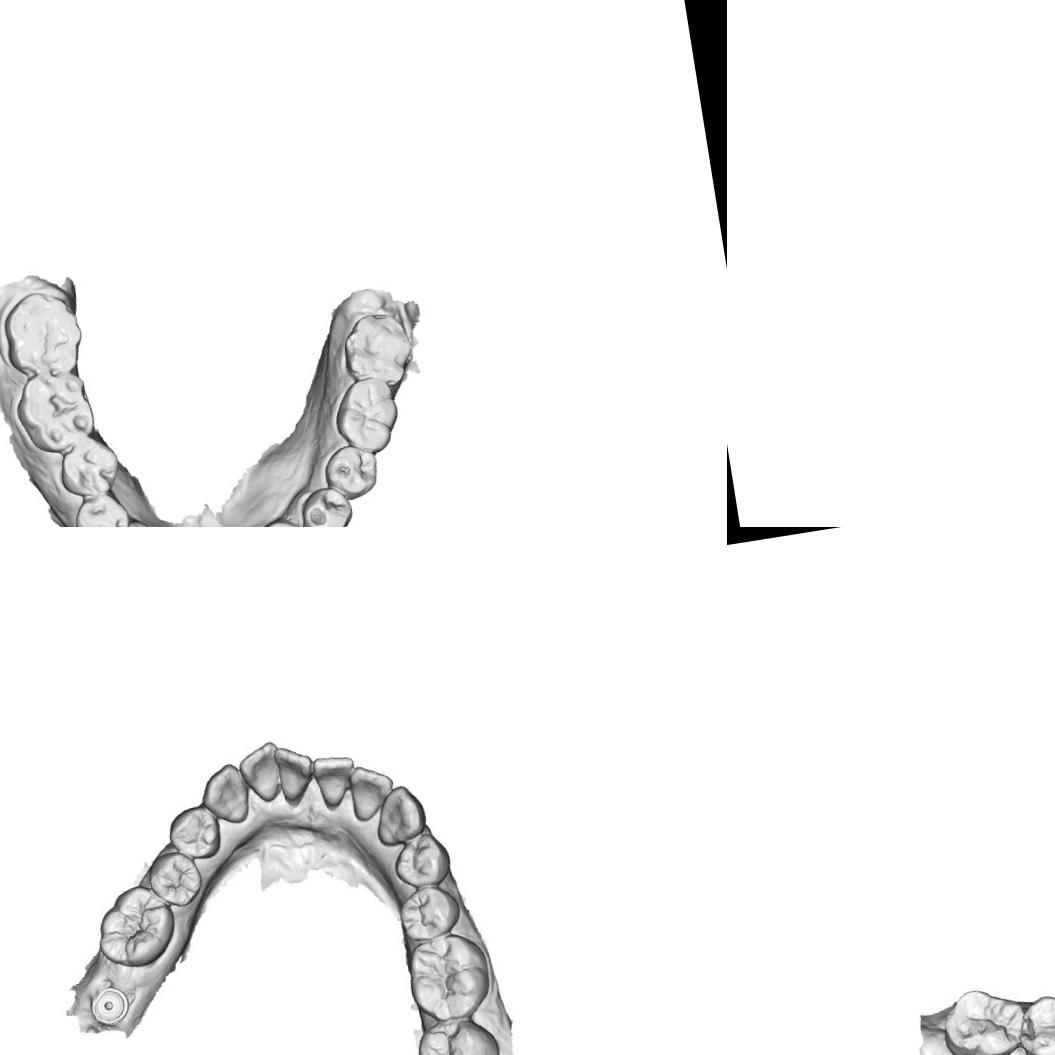canine: (370, 784, 429, 846), (202, 764, 252, 824)
implant: (86, 980, 136, 1034)
incisor: (270, 744, 318, 808), (240, 742, 290, 802), (310, 748, 357, 810), (347, 764, 392, 818)
molar: (8, 364, 110, 460), (0, 282, 92, 381), (406, 932, 495, 1026), (90, 880, 179, 972), (337, 306, 421, 396), (936, 976, 1031, 1055), (328, 374, 403, 459), (415, 1018, 503, 1055), (1013, 984, 1055, 1055)
premolar: (54, 436, 123, 504), (318, 439, 384, 504), (395, 882, 460, 940), (166, 806, 222, 861), (151, 850, 202, 909), (394, 832, 448, 886), (296, 481, 359, 527), (70, 490, 136, 527)
